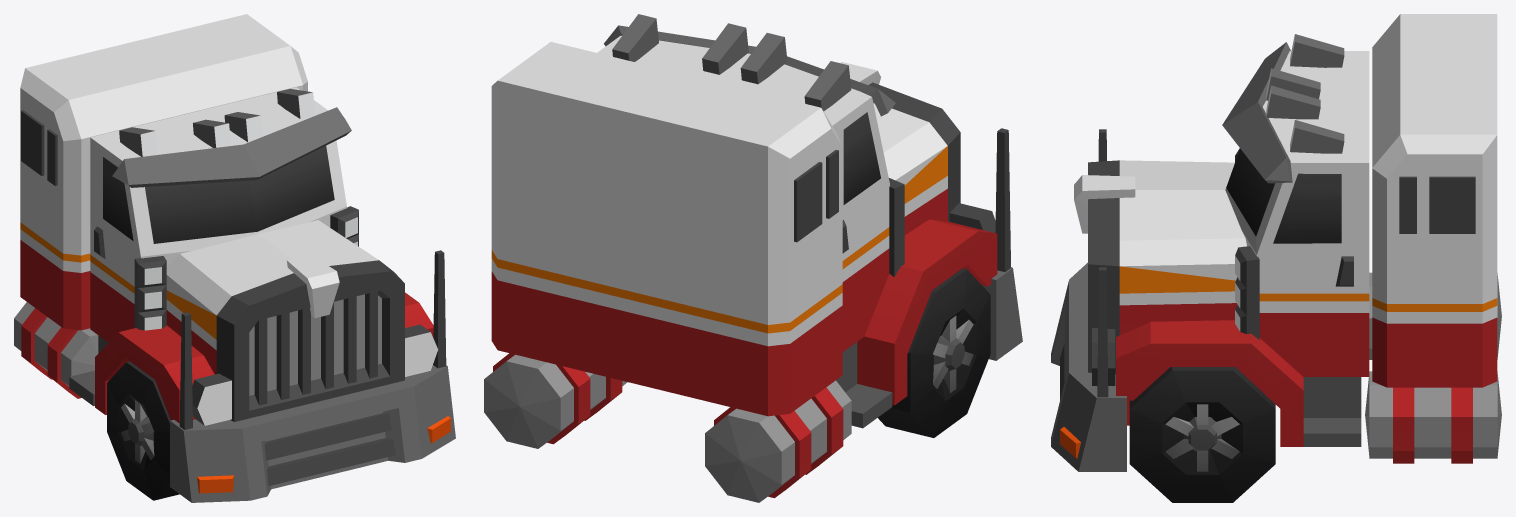
The model's file is head_I_1.fbx.
3 renders of one model, left to right at view 1: azimuth 30°, elevation 25°; view 2: azimuth 150°, elevation 25°; view 3: azimuth 270°, elevation 25°, orthographic. The views are drawn at different scales.
Parts seen in each view (by area): view 1: head_I_1; view 2: head_I_1; view 3: head_I_1.
Part boxes in pixels (box(x1,y1,x2,y2)): head_I_1: box(14, 14, 455, 502); head_I_1: box(484, 14, 1022, 502); head_I_1: box(1051, 14, 1501, 502).
Size of the model in its own units: 1291 by 1473 by 1678.
